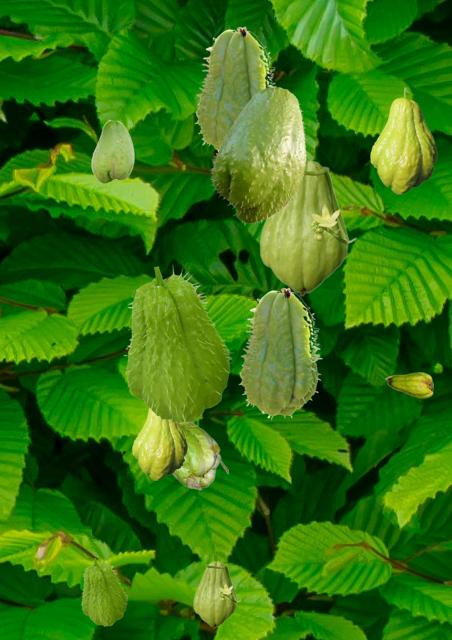sayote: (123, 264, 232, 422), (209, 86, 306, 224), (259, 160, 356, 295), (238, 287, 321, 419), (194, 26, 275, 151), (370, 87, 436, 193), (132, 408, 186, 479), (172, 423, 227, 489), (80, 557, 127, 625), (193, 561, 240, 627), (91, 120, 133, 182), (385, 372, 432, 397)
